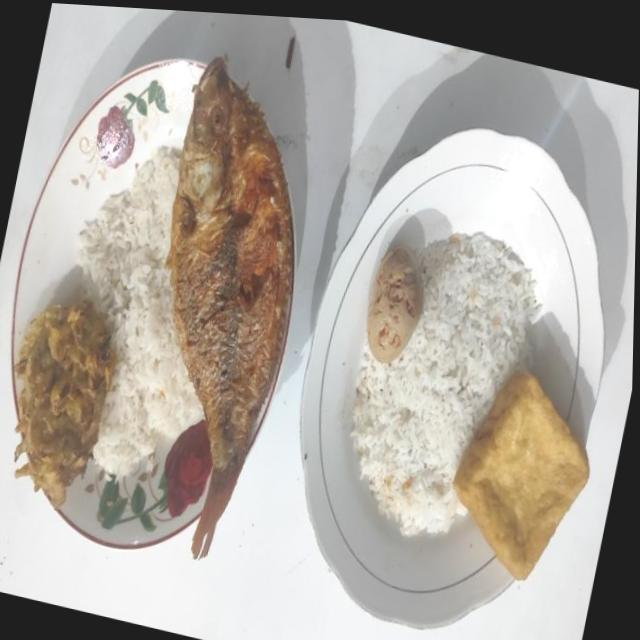ikan_mujair: (165, 57, 293, 557)
nasi_putih: (350, 232, 540, 535), (78, 145, 203, 477)
tahu_goreng: (452, 371, 588, 580)
